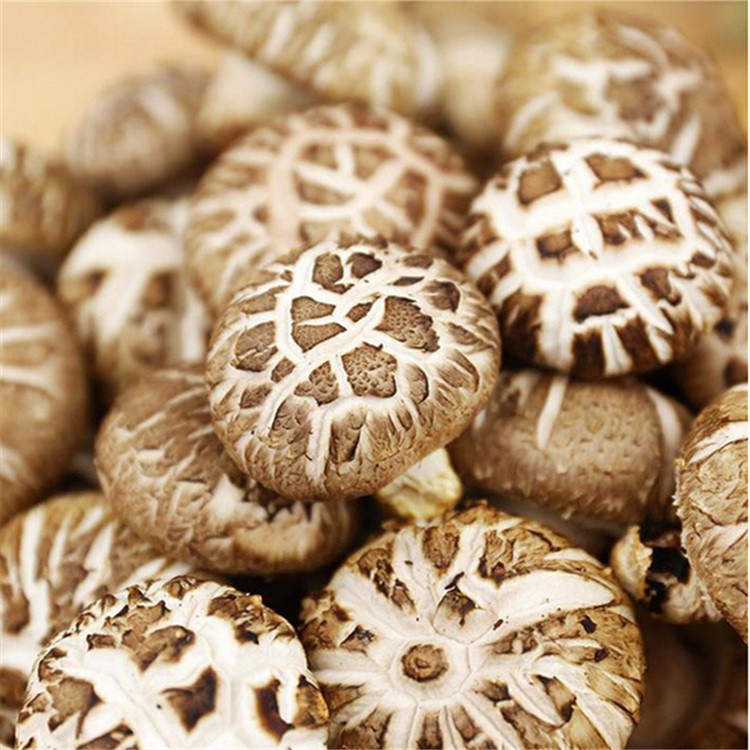H: (311, 518, 637, 750), (208, 233, 482, 489), (465, 143, 733, 355), (16, 577, 328, 750), (112, 377, 319, 565), (506, 13, 737, 177), (201, 108, 458, 255), (485, 359, 671, 521), (2, 497, 145, 686), (64, 201, 197, 374)
